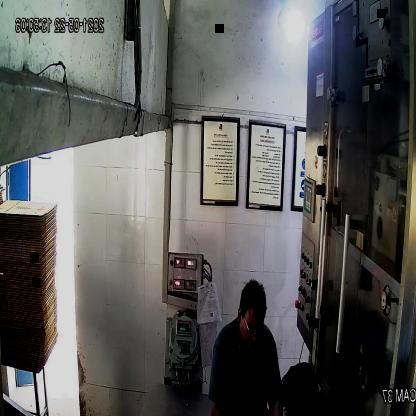goggles: (237, 312, 268, 344)
